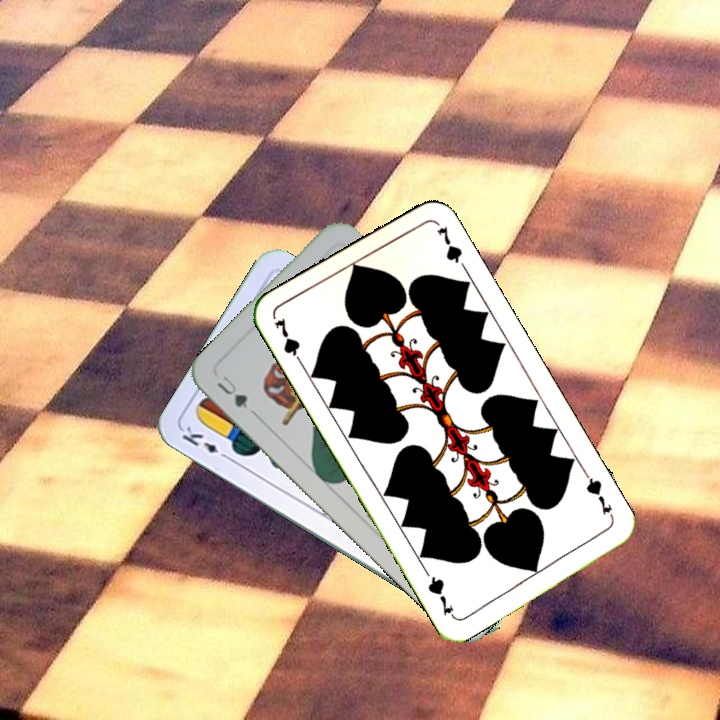EK: (178, 422, 233, 462)
G7: (270, 313, 307, 370), (580, 469, 617, 523)
GU: (212, 371, 252, 412)
